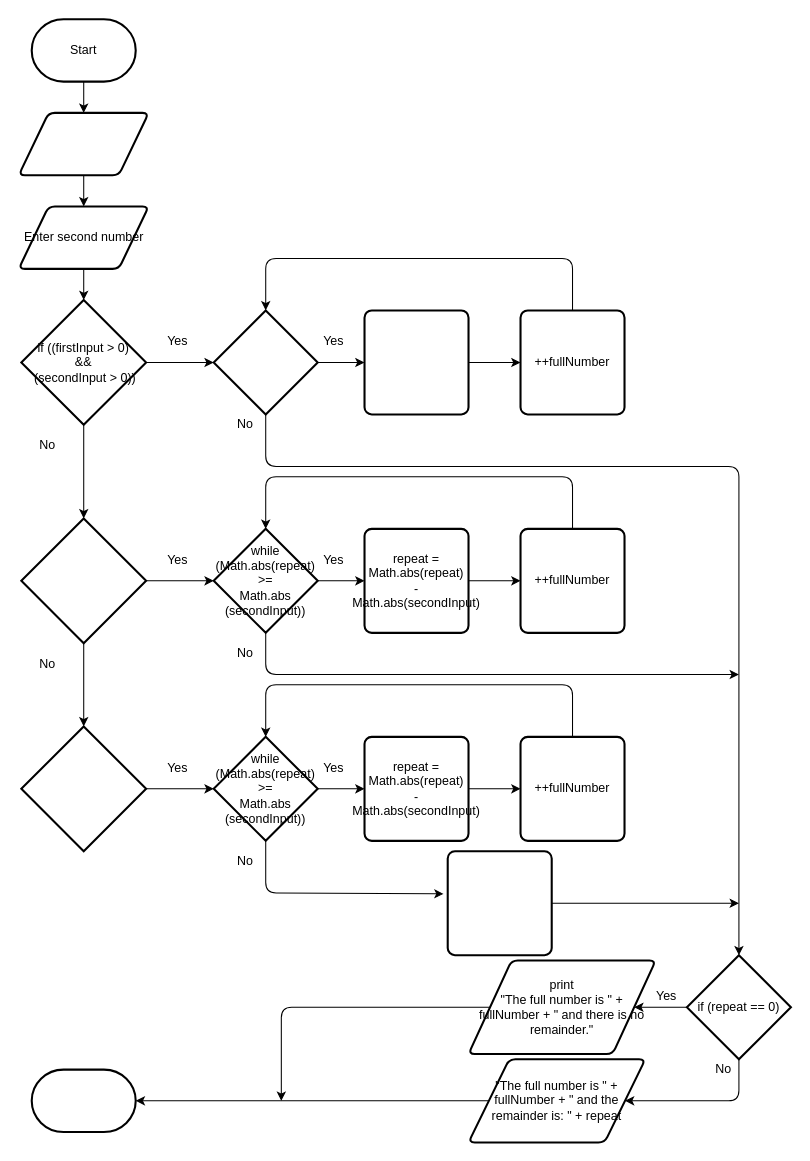
This 810x1161 diagram has some shape labels left out. Each missing label, with the centre of its shape:
"((firstInput < 0) || (secondInput < 0))" belongs at (83,788).
"else if ((firstInput < 0) && (secondInput < 0))" belongs at (83,580).
"Enter first number" belongs at (83,143).
"fullNumber = fullNumber * -1" belongs at (499,903).
"repeat = repeat - secondInput" belongs at (416,362).
"Stop" belongs at (83,1100).
"while(repeat >= secondInput)" belongs at (265,362).
